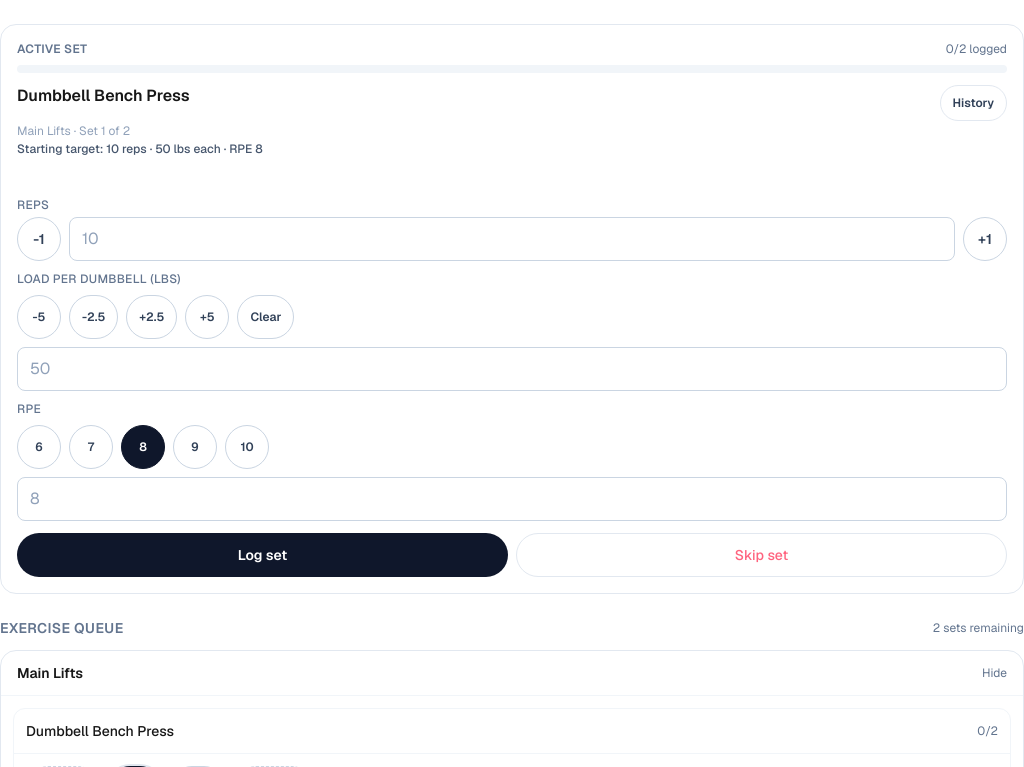
Test case: LogWorkoutClient UX behavior › opens trusted exact-exercise history from the active workout card
Click the button "History": (973, 103) [940,85,1007,121]
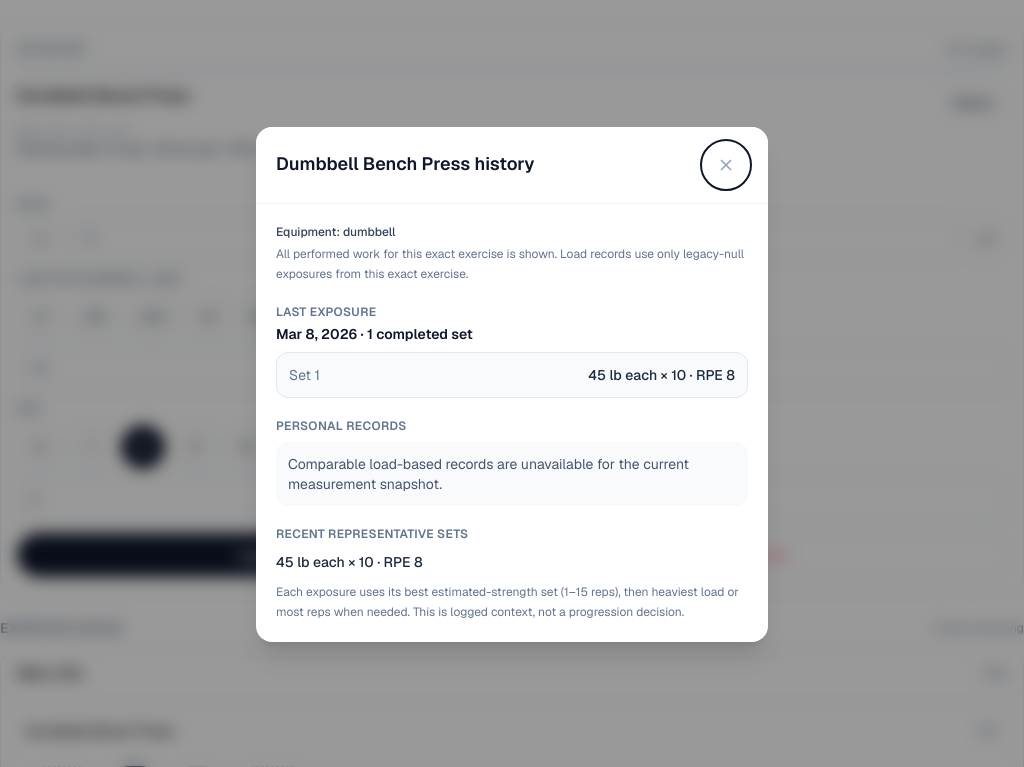
Expected: the number field named "Reps" is shown, [69,217,955,261]
Now the heading "Dumbbell Bench Press history" is shown, box [276,153,535,176]
Now the text "Last exposure" is shown, box [276,304,376,320]
